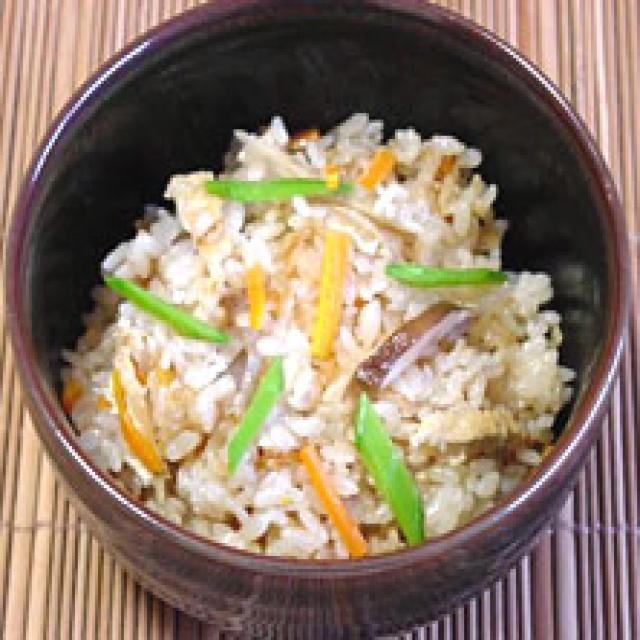米饭主食: (0, 3, 623, 637)
